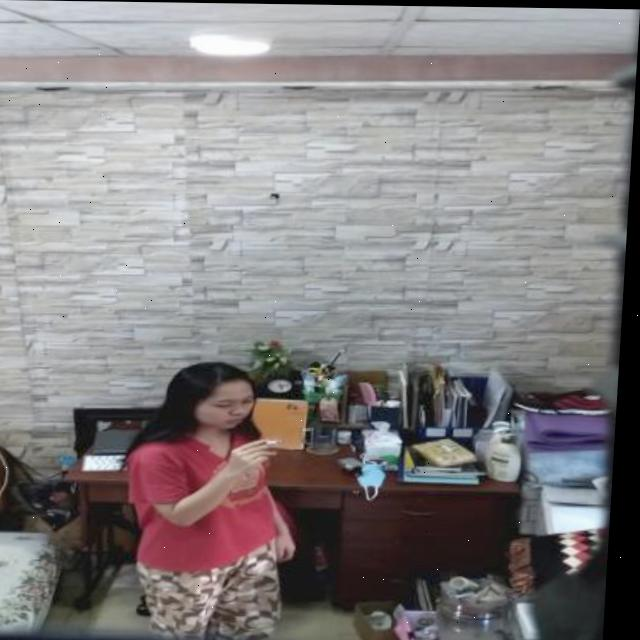cigarette: (270, 438, 291, 445)
